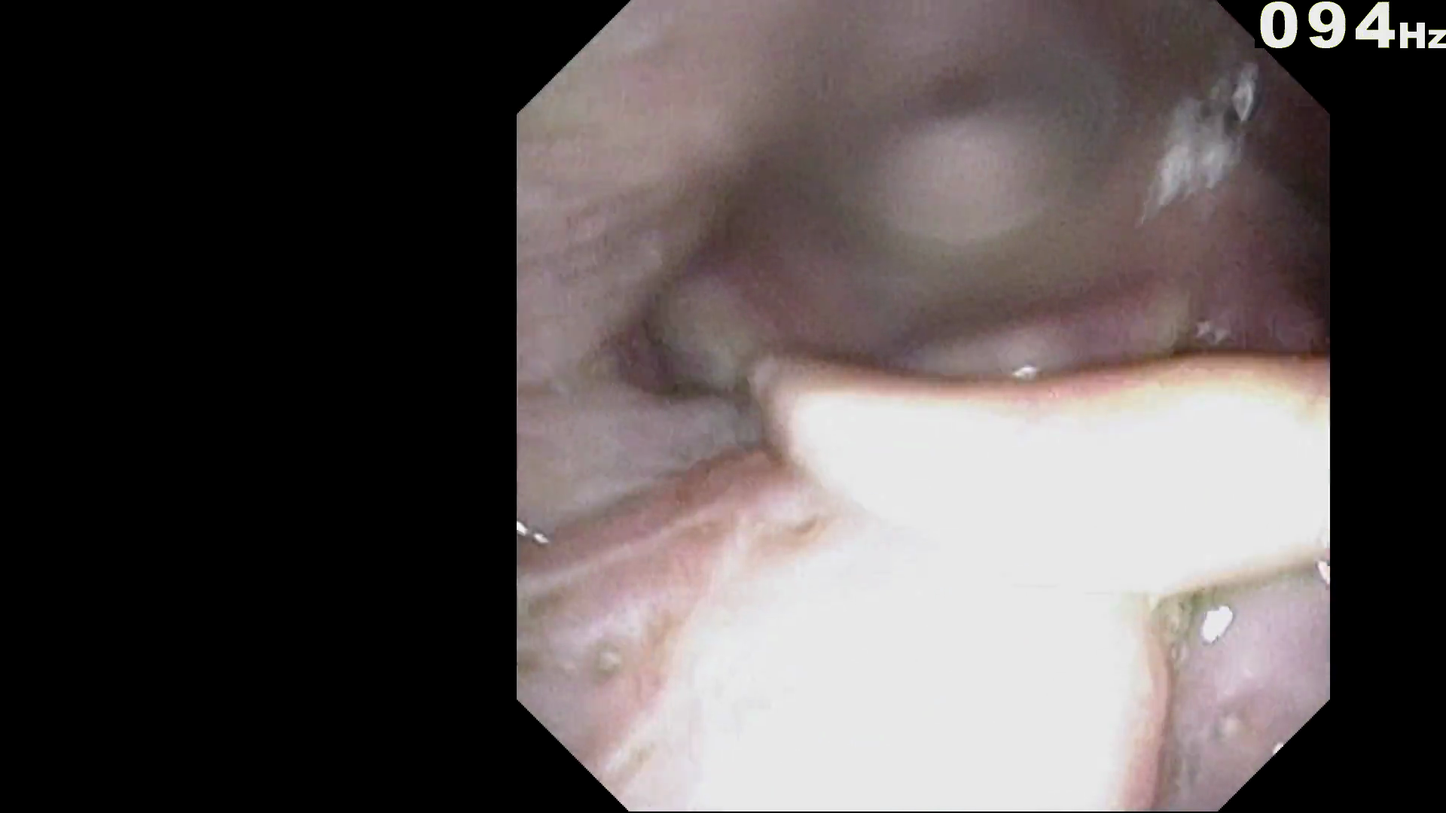epiglottis: (784, 422, 1305, 647)
trachea: (1065, 384, 1167, 469)
